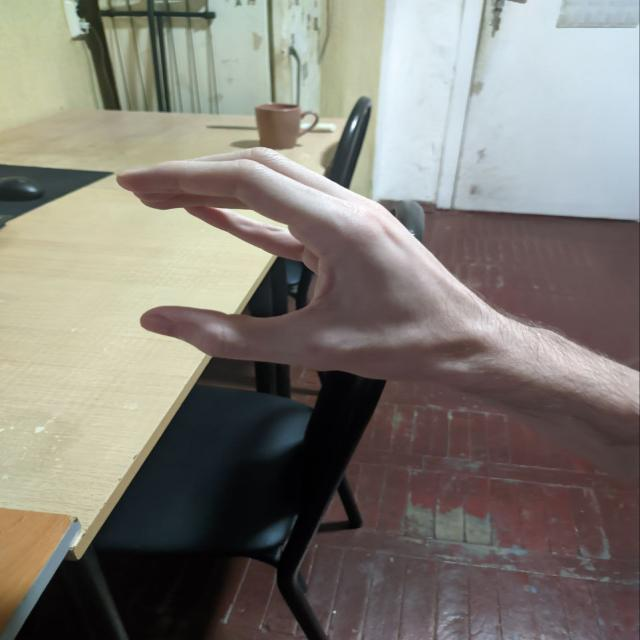s: (113, 124, 537, 388)
